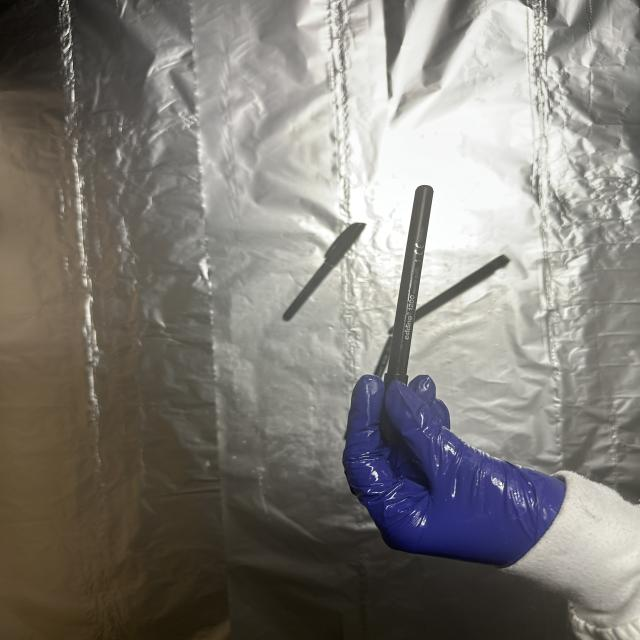gloves_contaminated: (343, 375, 565, 567)
